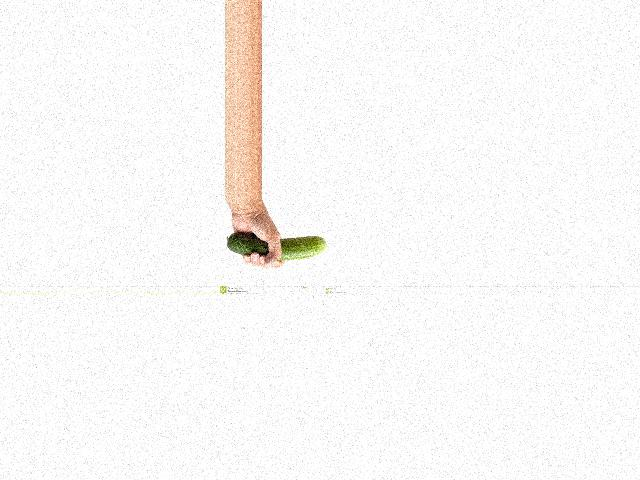cucumber: (228, 233, 326, 261)
